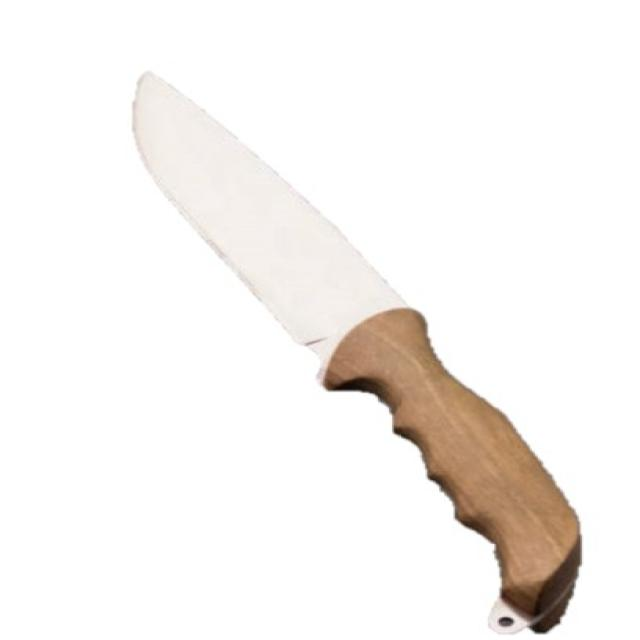knife: (122, 67, 583, 640)
